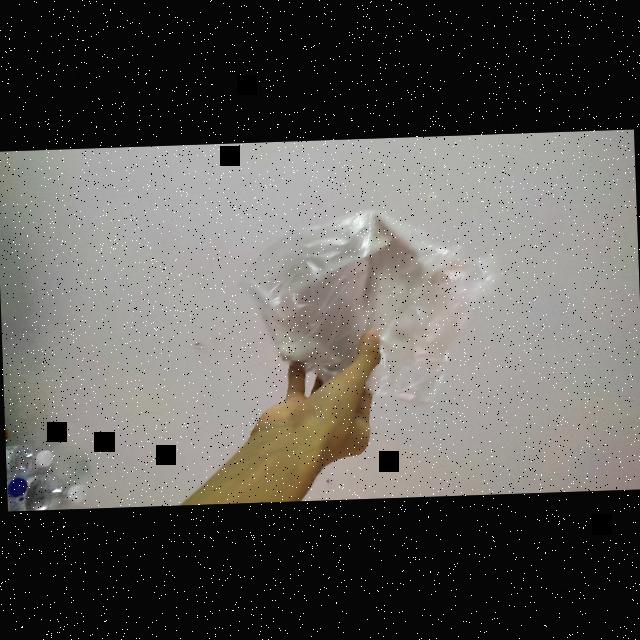plastic_bag: (235, 192, 508, 420)
plastic_bottle: (5, 470, 86, 511), (5, 438, 54, 476)
plastic_bottle_cap: (63, 480, 87, 505), (5, 475, 28, 496), (33, 447, 54, 468)
